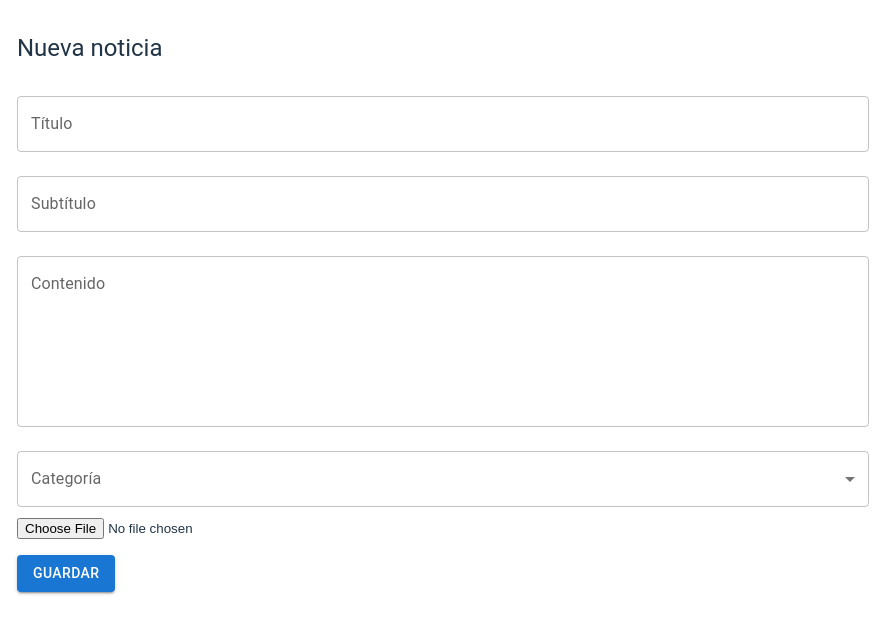
Test: NewsForm › renders form and validates required fields
// Title and content required: submit empty
What coordinates should you click on to do the following:
click the button "Guardar"
I would click on:
 (66, 574)
Its box is [17,555,116,592].
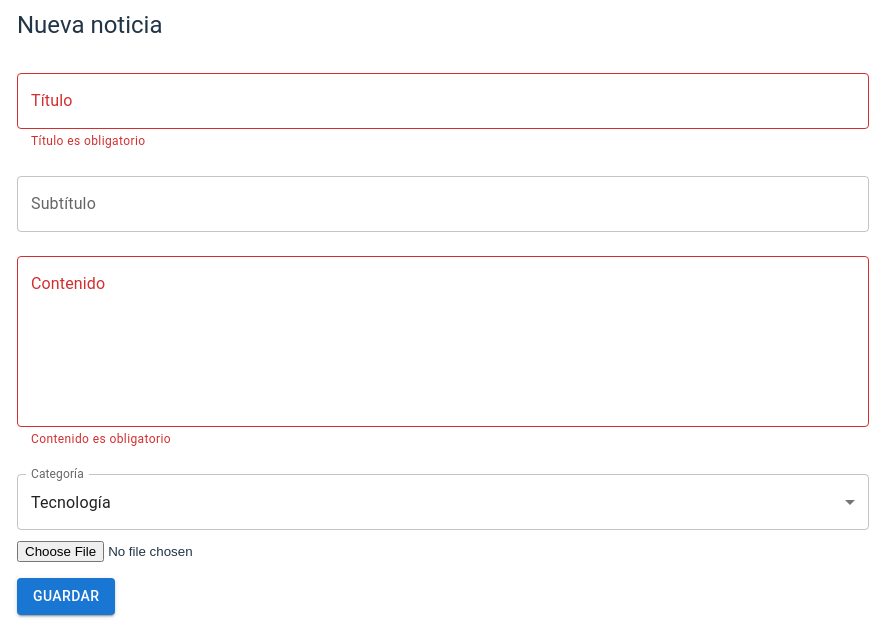
expect the text "Título es obligatorio" is shown: met, box [31,134,146,148]
expect the text "Contenido es obligatorio" is shown: met, box [31,432,171,446]
